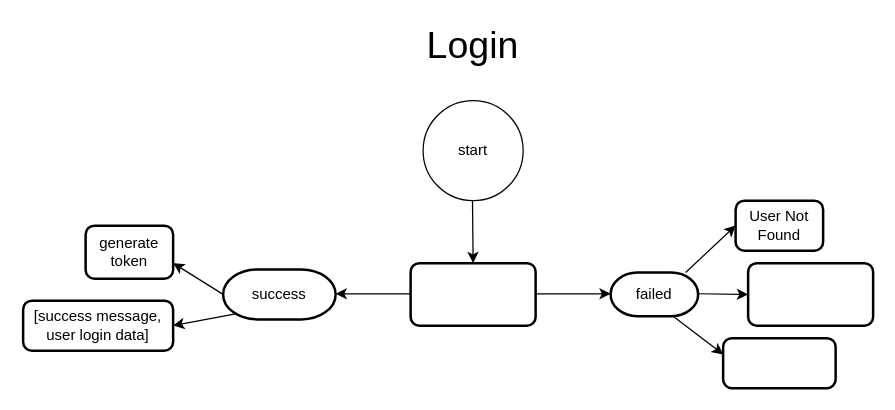
Some shapes in this 895 by 410 pixel diagram are drawn without their labels. The centre of each missing label's shape, as x and y in pixels:
internal server error: [778,362]
invalid username or password: [810,293]
login success?: [472,293]
